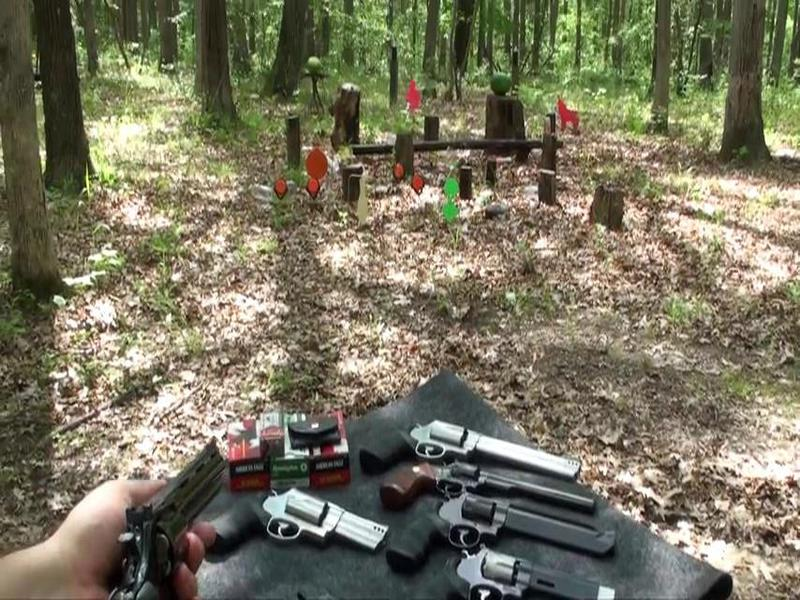Revolver: (68, 427, 245, 600)
